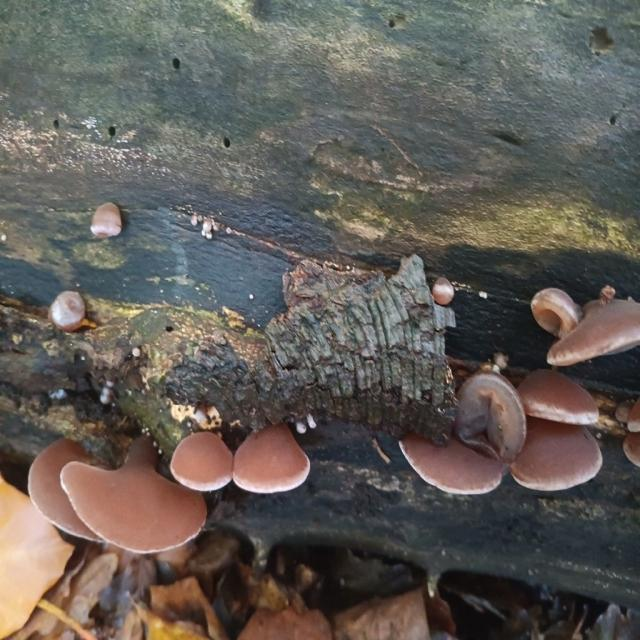Fase Muda: (236, 423, 311, 494), (171, 432, 239, 491), (529, 284, 583, 341), (48, 284, 88, 338), (90, 197, 124, 238)
Matang: (61, 452, 210, 558), (29, 434, 119, 554), (503, 418, 606, 498), (452, 360, 528, 468), (390, 428, 506, 498), (516, 369, 598, 435)
primordia: (431, 276, 456, 309)
